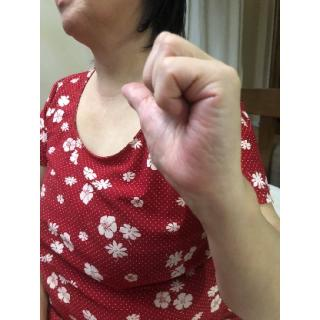WAW: (122, 29, 249, 199)
